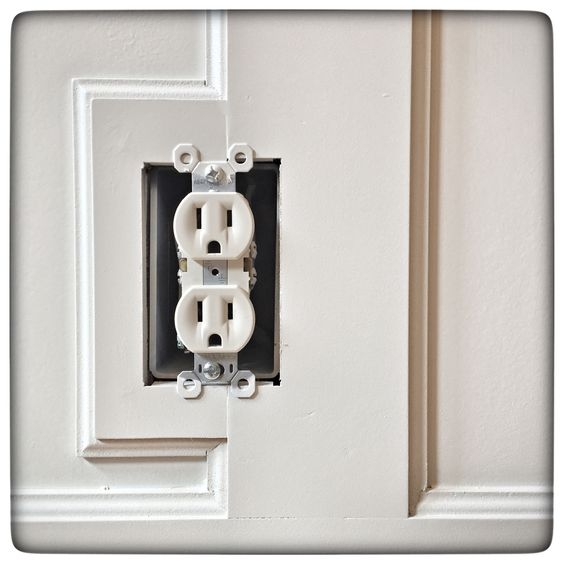outlet: (187, 199, 241, 256), (189, 293, 242, 350)
